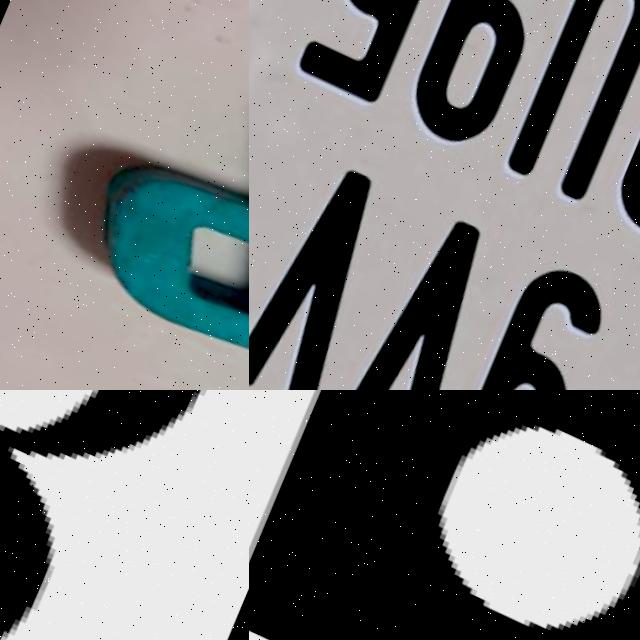5: (288, 0, 471, 105)
8: (0, 390, 249, 640)
9: (386, 0, 577, 158), (430, 240, 620, 390)
A: (249, 390, 640, 640)
P: (71, 38, 249, 390)
U: (495, 0, 640, 206)
V: (249, 137, 406, 390), (320, 191, 513, 390)
